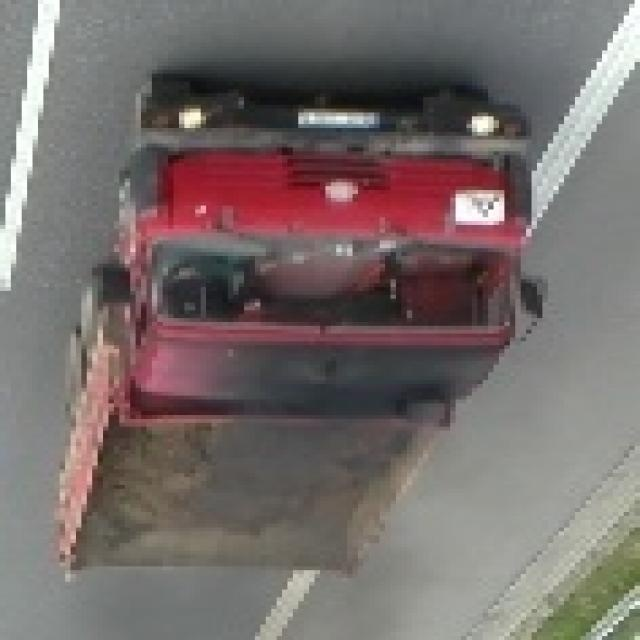Truck: (43, 70, 537, 586)
